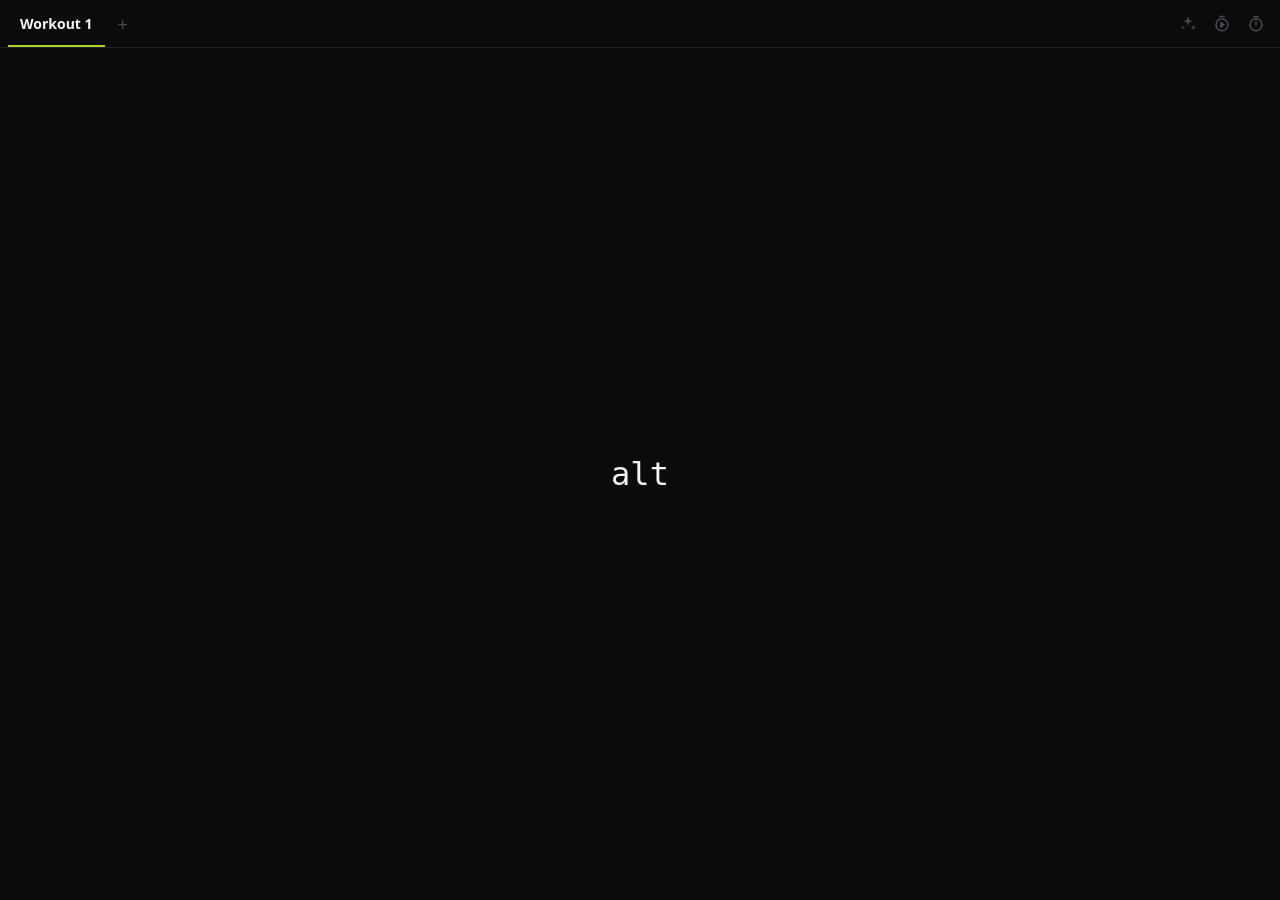
WorkoutEditor AI-Generierung › öffnet den Dialog über den Magic-Button
Click the button named "Workout mit AI erstellen" at (1188, 24), box x1=1172 y1=8 x2=1204 y2=40
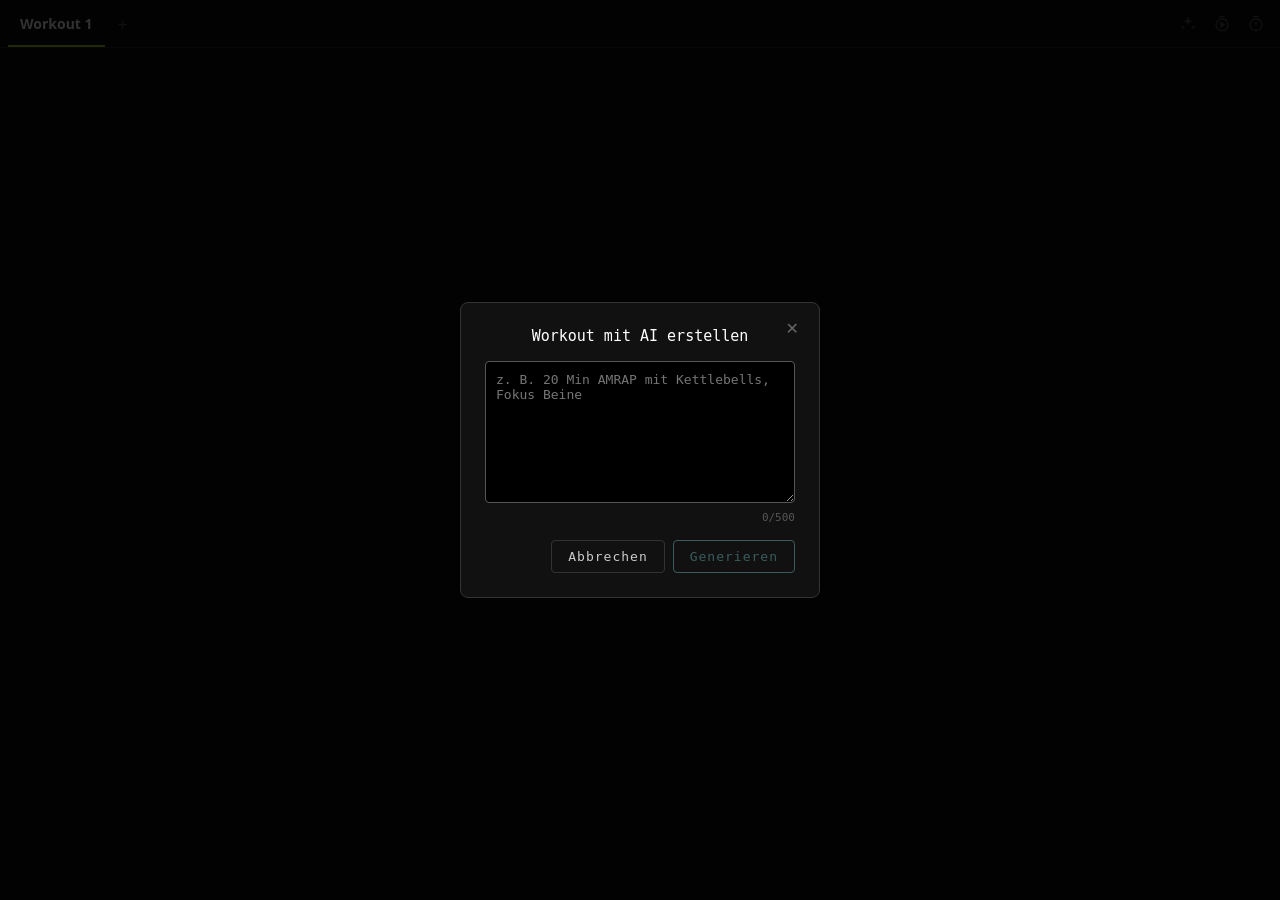
Result: the text box with class "gen-input" is shown at x1=485 y1=361 x2=795 y2=503
